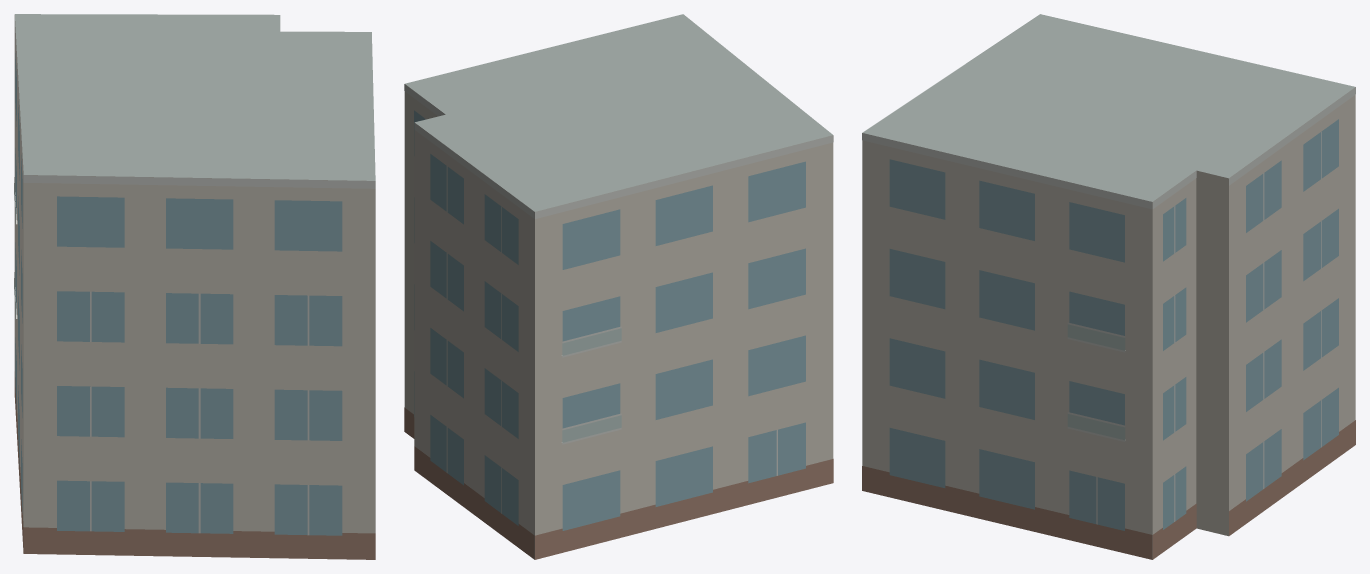
The model's file is survey-upis-32656139.glb.
The picture shows the model from 3 angles, left to right: view 1: azimuth 30°, elevation 25°; view 2: azimuth 150°, elevation 25°; view 3: azimuth 270°, elevation 25°; orthographic projection. The views are drawn at different scales.
Visible parts, largest first — view 1: survey-upis-32656139.tmp; view 2: survey-upis-32656139.tmp; view 3: survey-upis-32656139.tmp.
Boxes of the visible parts, bbox=[...] form: survey-upis-32656139.tmp: bbox=[14, 14, 375, 559]; survey-upis-32656139.tmp: bbox=[404, 14, 833, 559]; survey-upis-32656139.tmp: bbox=[862, 14, 1355, 559].
Bounding box in the file's own units: 13.07 × 11.6 × 14.51.
